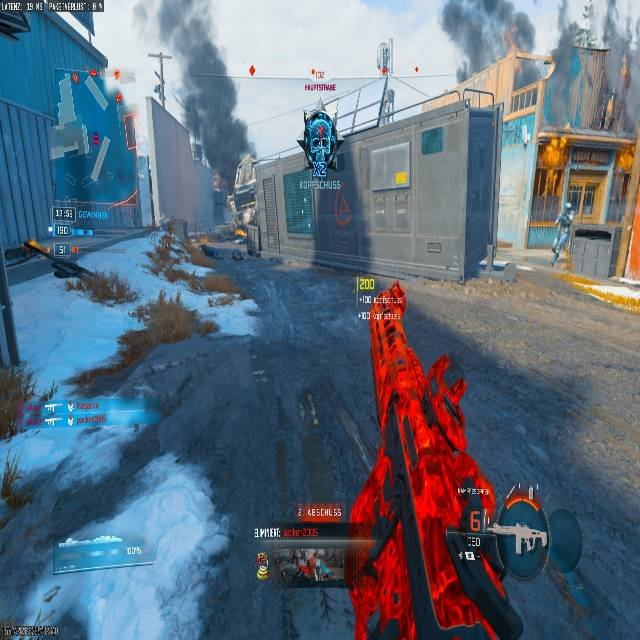player: (302, 107, 339, 176), (549, 203, 574, 267)
